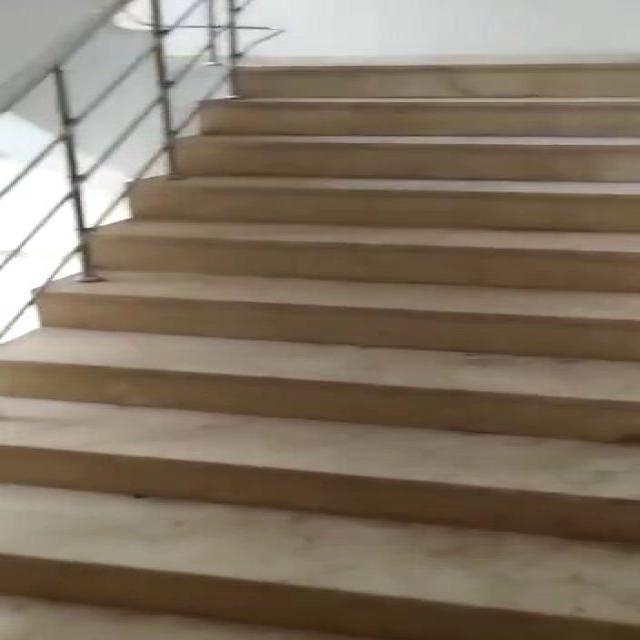stair: (4, 55, 640, 640)
